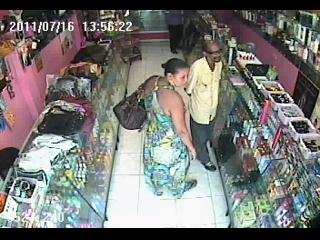Normal: (138, 58, 198, 199), (186, 39, 227, 172), (112, 74, 160, 131)
